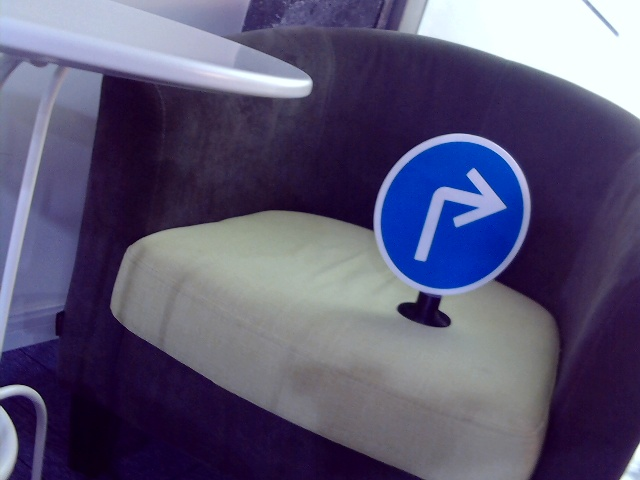turn_right: (415, 160, 503, 270)
